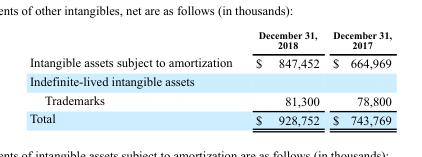table: (28, 29, 390, 126)
table column: (28, 29, 243, 126), (243, 29, 325, 126), (325, 29, 390, 126)
table column header: (28, 29, 390, 52)
table projected row header: (28, 71, 390, 89)
table row: (28, 29, 390, 52), (28, 89, 390, 109), (28, 52, 390, 71), (28, 71, 390, 89), (28, 109, 390, 126)
